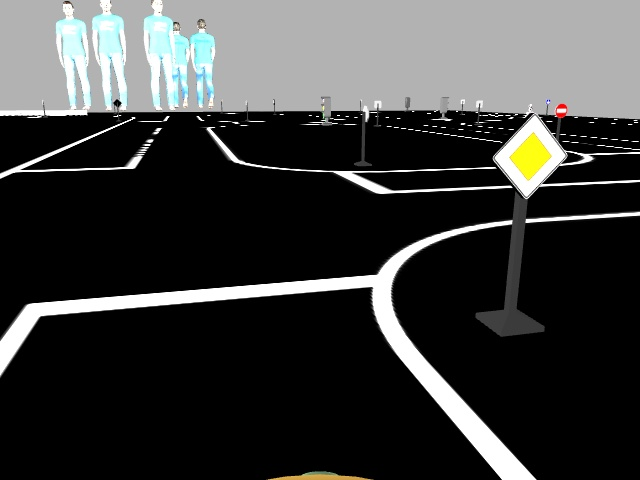Priority: (492, 111, 567, 197)
